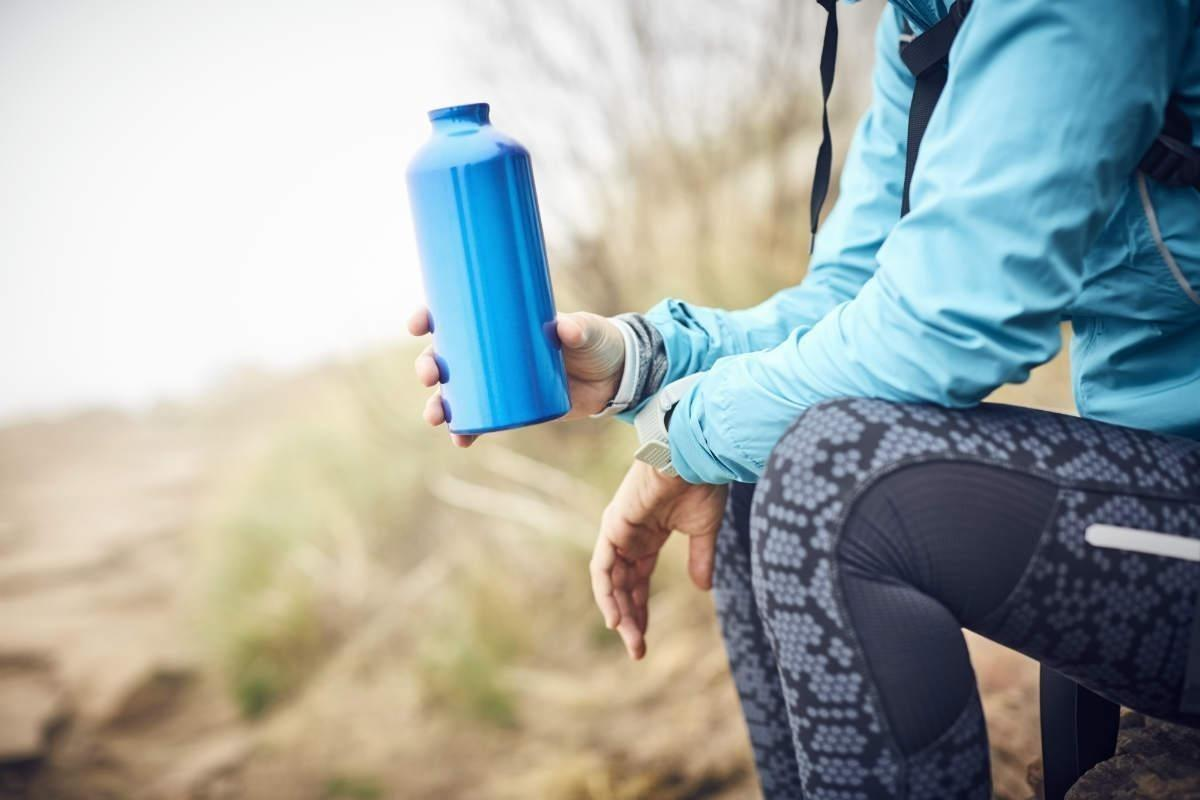gym bottle: (401, 93, 574, 436)
